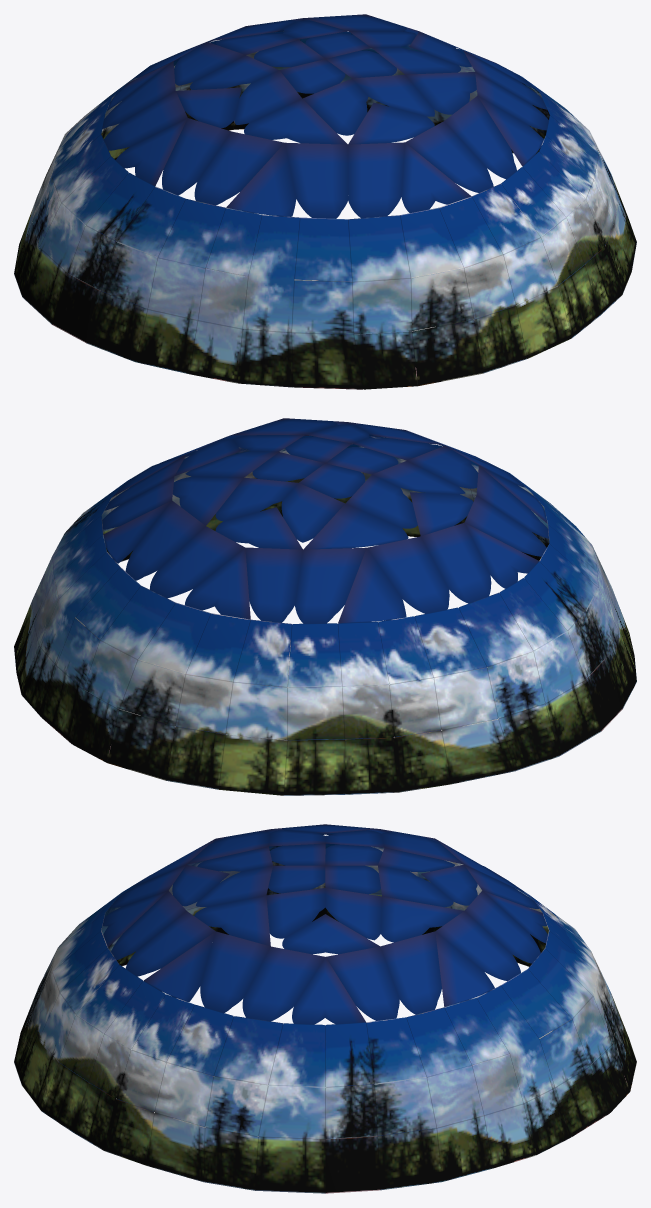
3 renders of one model, top to bottom at view 1: azimuth 30°, elevation 25°; view 2: azimuth 150°, elevation 25°; view 3: azimuth 270°, elevation 25°, orthographic. The views are drawn at different scales.
Parts seen in each view (by area): view 1: T1L3M001_21; view 2: T1L3M001_21; view 3: T1L3M001_21.
Part boxes in pixels (bbox=[...]): T1L3M001_21: bbox=[14, 14, 636, 389]; T1L3M001_21: bbox=[14, 418, 636, 795]; T1L3M001_21: bbox=[14, 824, 636, 1193].
Size of the model in its own units: 4.09 by 1.42 by 4.09.
